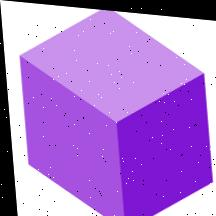cube: (14, 1, 214, 216)
